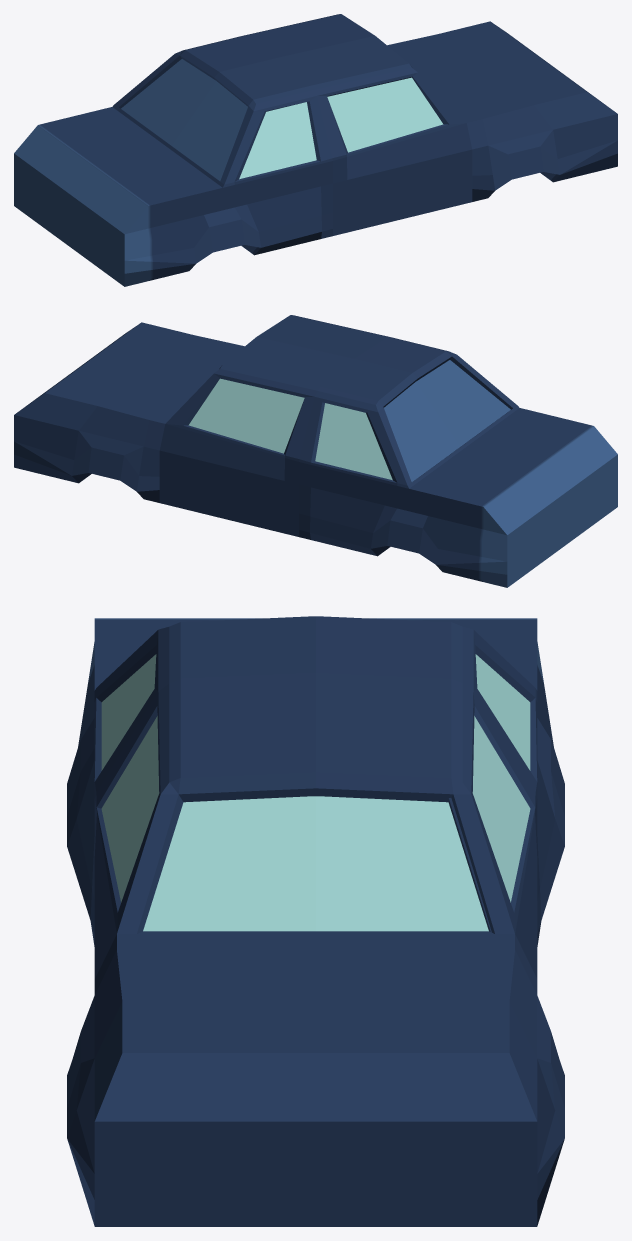
The model's file is MelOMart_car1.fbx.
3 views of the same model, one above another, from view 1: azimuth 30°, elevation 25°; view 2: azimuth 150°, elevation 25°; view 3: azimuth 270°, elevation 25° (orthographic). The views are drawn at different scales.
Visible parts, largest first — view 1: car_body_no_driver_door.001; view 2: car_body_no_driver_door.001, car_driver_door.001; view 3: car_body_no_driver_door.001, car_driver_door.001.
Part boxes in pixels (x1,y1,x2,y2): car_body_no_driver_door.001: (14, 14, 617, 286); car_body_no_driver_door.001: (14, 315, 617, 587); car_driver_door.001: (159, 373, 314, 536); car_body_no_driver_door.001: (67, 616, 564, 1226); car_driver_door.001: (449, 692, 537, 978).
Size of the model in its own units: 225 by 139 by 515.
